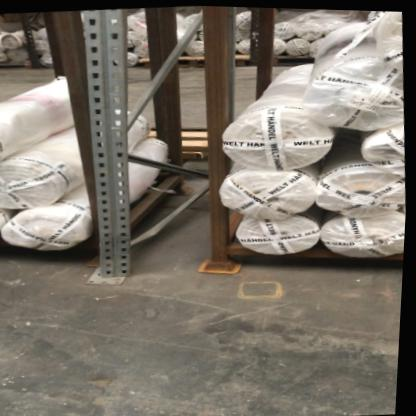vertical_damage: (89, 248, 146, 289)
